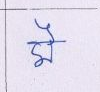e_matra: (35, 19, 58, 41)
